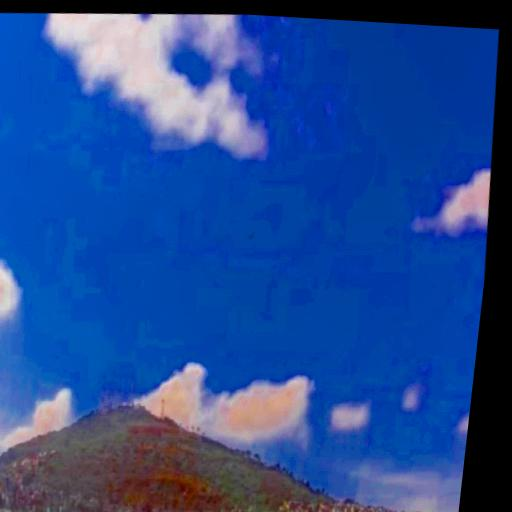drones: (239, 226, 260, 247)
